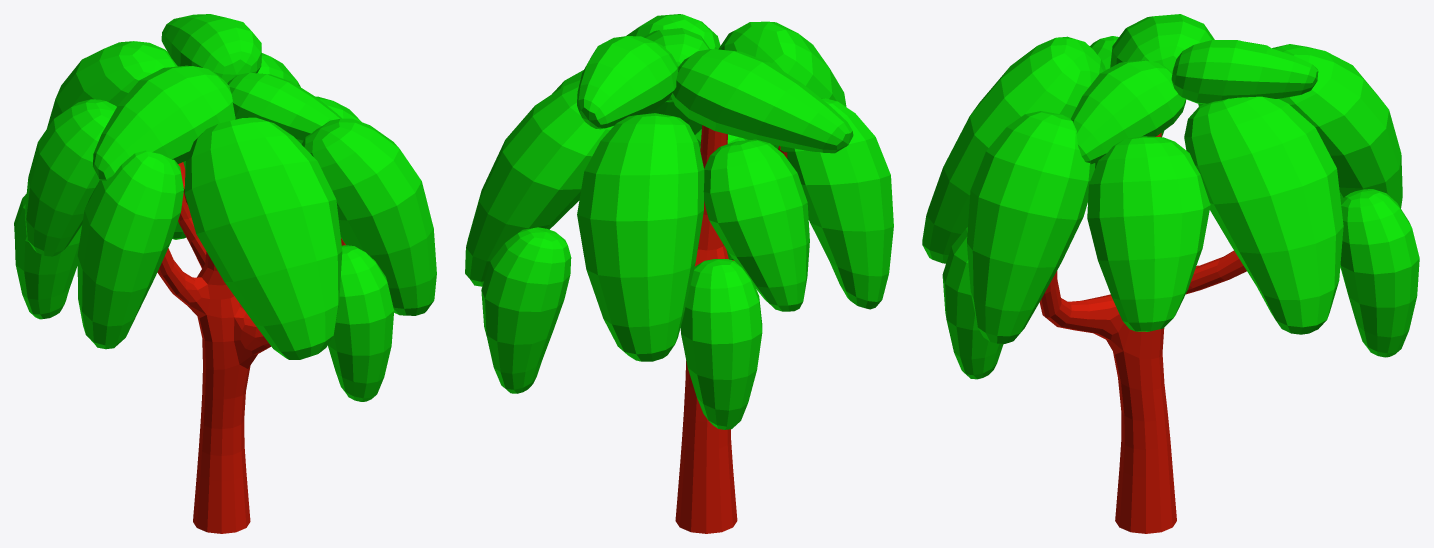
Rendered from tree.fbx.
3 renders of one model, left to right at view 1: azimuth 30°, elevation 25°; view 2: azimuth 150°, elevation 25°; view 3: azimuth 270°, elevation 25°, orthographic. The views are drawn at different scales.
Visible parts, largest first — view 1: Tree_Type6_02_mesh; view 2: Tree_Type6_02_mesh; view 3: Tree_Type6_02_mesh.
Boxes of the visible parts, x1,y1,x2,y2 form: Tree_Type6_02_mesh: (14,14,436,533); Tree_Type6_02_mesh: (465,14,893,533); Tree_Type6_02_mesh: (922,14,1419,533).
Size of the model in its own units: 224 by 304 by 275.
